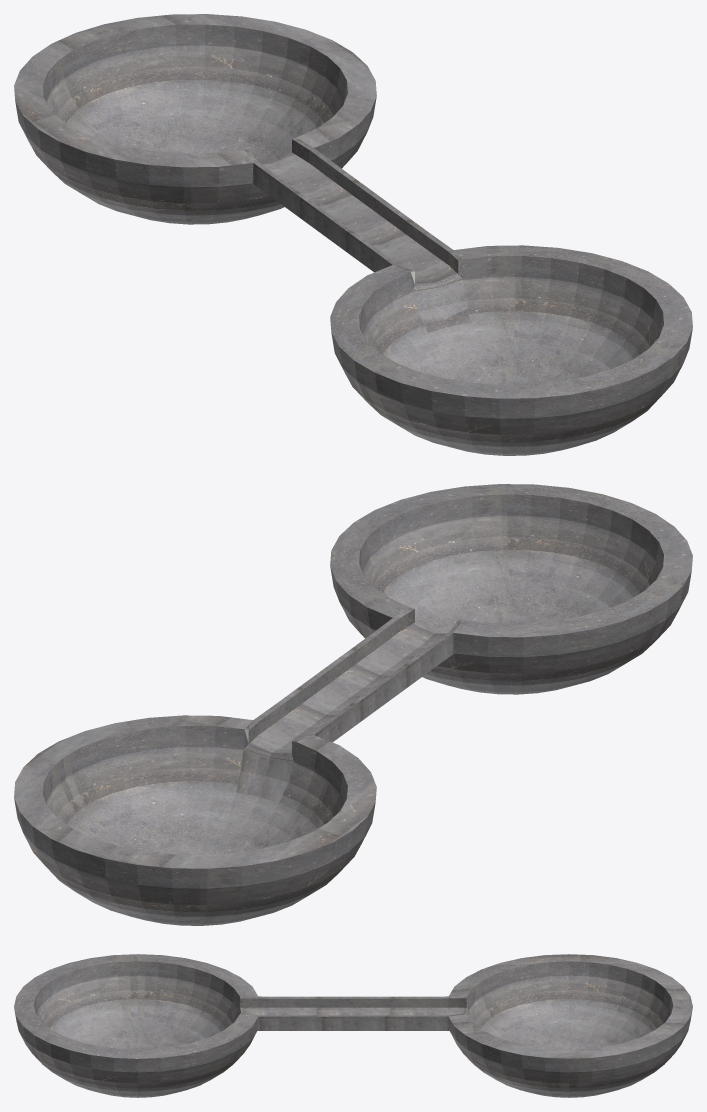
File: pista_prueba_collision.gltf
3 renders of one model, top to bottom at view 1: azimuth 30°, elevation 25°; view 2: azimuth 150°, elevation 25°; view 3: azimuth 270°, elevation 25°, orthographic. The views are drawn at different scales.
Visible parts, largest first — view 1: pista_prueba; view 2: pista_prueba; view 3: pista_prueba.
Boxes of the visible parts, x1,y1,x2,y2 form: pista_prueba: (14, 14, 692, 455); pista_prueba: (14, 484, 692, 925); pista_prueba: (14, 954, 692, 1097).
Size of the model in its own units: 36.44 by 12.33 by 99.8.
1 material, 1 textured.
